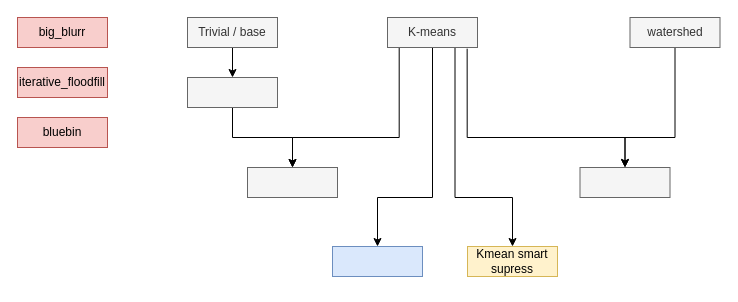
The diagram is 738 pixels wide and 302 high, and some of its shapes have lost their labels. Here are the shapes that lost their labels. From the top down, the centre of each, then its label:
At [232,92]: "Blob_try".
At [292,182]: "K-means + blob".
At [624,182]: "K-means + watershed".
At [377,261]: "Kmean repair".
